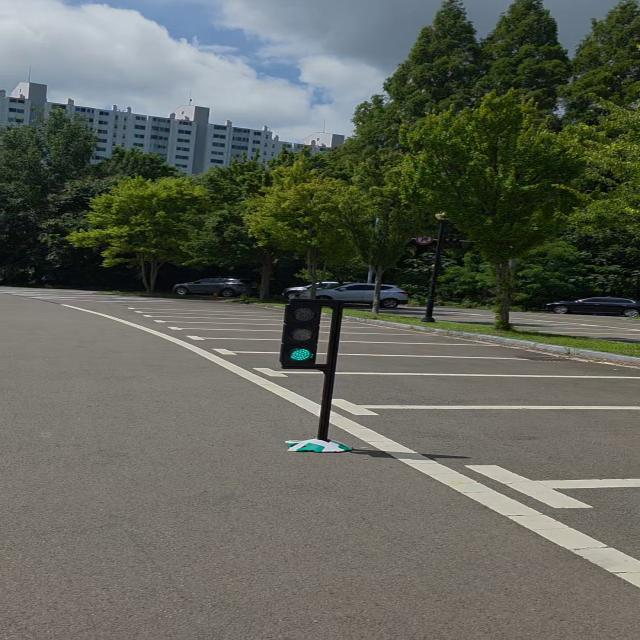green: (281, 298, 320, 370)
